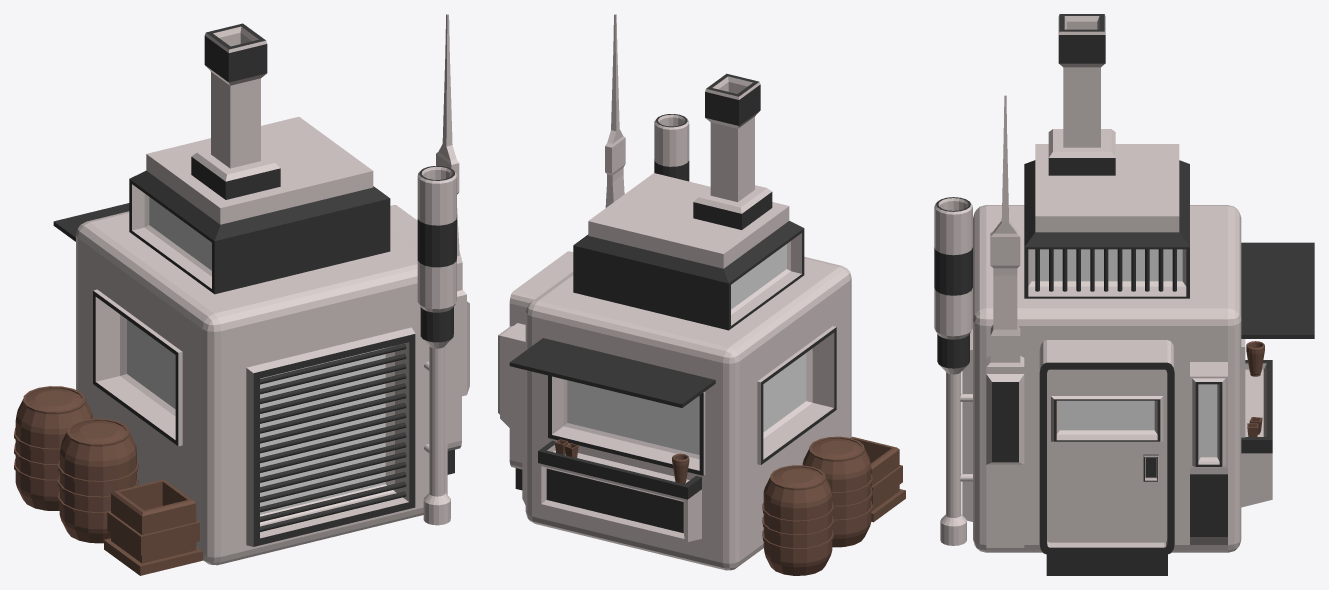
Rendered from DudeHouse_A.fbx.
3 views of the same model, side by side, from view 1: azimuth 30°, elevation 25°; view 2: azimuth 150°, elevation 25°; view 3: azimuth 270°, elevation 25° (orthographic). The views are drawn at different scales.
Parts seen in each view (by area): view 1: Cube.003, Cylinder.010; view 2: Cube.003, Cylinder.010; view 3: Cube.003.
Part boxes in pixels (left/top/right/bottom): Cube.003: left=53, top=14, right=469, bottom=565; Cylinder.010: left=14, top=386, right=203, bottom=575; Cube.003: left=498, top=14, right=851, bottom=570; Cylinder.010: left=762, top=436, right=905, bottom=575; Cube.003: left=934, top=14, right=1314, bottom=575.
Bounding box in the file's own units: 1601 × 2015 × 1481.
